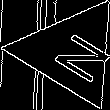N_NW: (35, 22, 106, 83)
